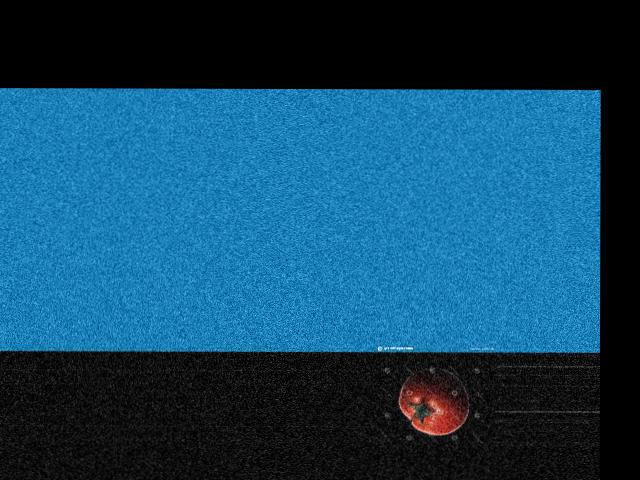tomato: (398, 367, 470, 435)
